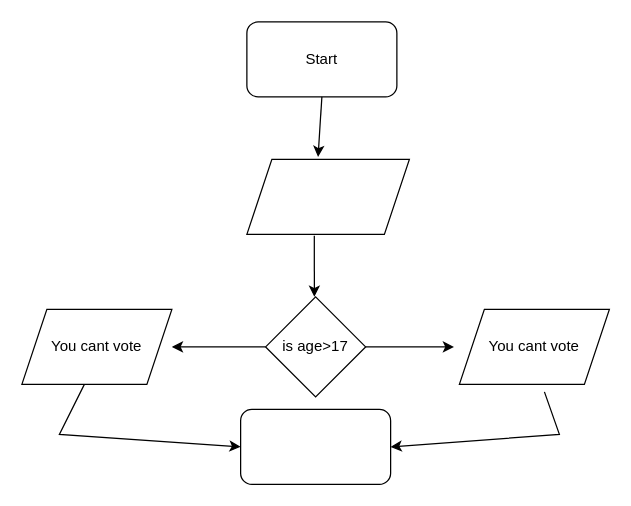
The diagram is 631 pixels wide and 506 high, and some of its shapes have lost their labels. Here are the shapes that lost their labels. From the top down, the box of each, then its label:
(246, 158, 409, 234): int age=20
(239, 408, 391, 484): end
